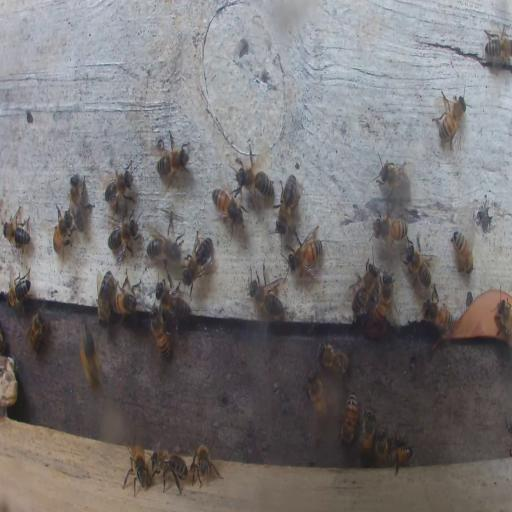bee: (431, 89, 467, 150), (155, 131, 191, 188), (234, 146, 274, 196), (77, 319, 102, 395), (211, 183, 245, 238), (246, 273, 284, 322), (403, 236, 435, 292), (273, 173, 301, 234), (183, 232, 214, 286), (350, 257, 378, 316), (288, 228, 322, 276), (480, 21, 512, 71), (153, 450, 187, 496), (156, 279, 191, 322), (122, 444, 150, 496), (371, 270, 395, 330), (108, 215, 140, 259), (188, 441, 218, 487), (375, 157, 411, 195), (316, 342, 352, 380), (146, 224, 181, 262), (306, 372, 328, 428), (104, 163, 133, 204), (450, 228, 474, 276), (68, 174, 90, 226), (339, 390, 359, 447), (424, 295, 452, 335), (112, 275, 140, 315), (150, 306, 170, 361), (96, 271, 115, 324), (370, 213, 406, 240), (53, 205, 72, 256), (6, 270, 31, 307), (26, 307, 45, 355), (358, 409, 376, 458), (4, 215, 30, 246), (494, 298, 511, 340), (389, 444, 413, 469), (376, 425, 388, 466)
